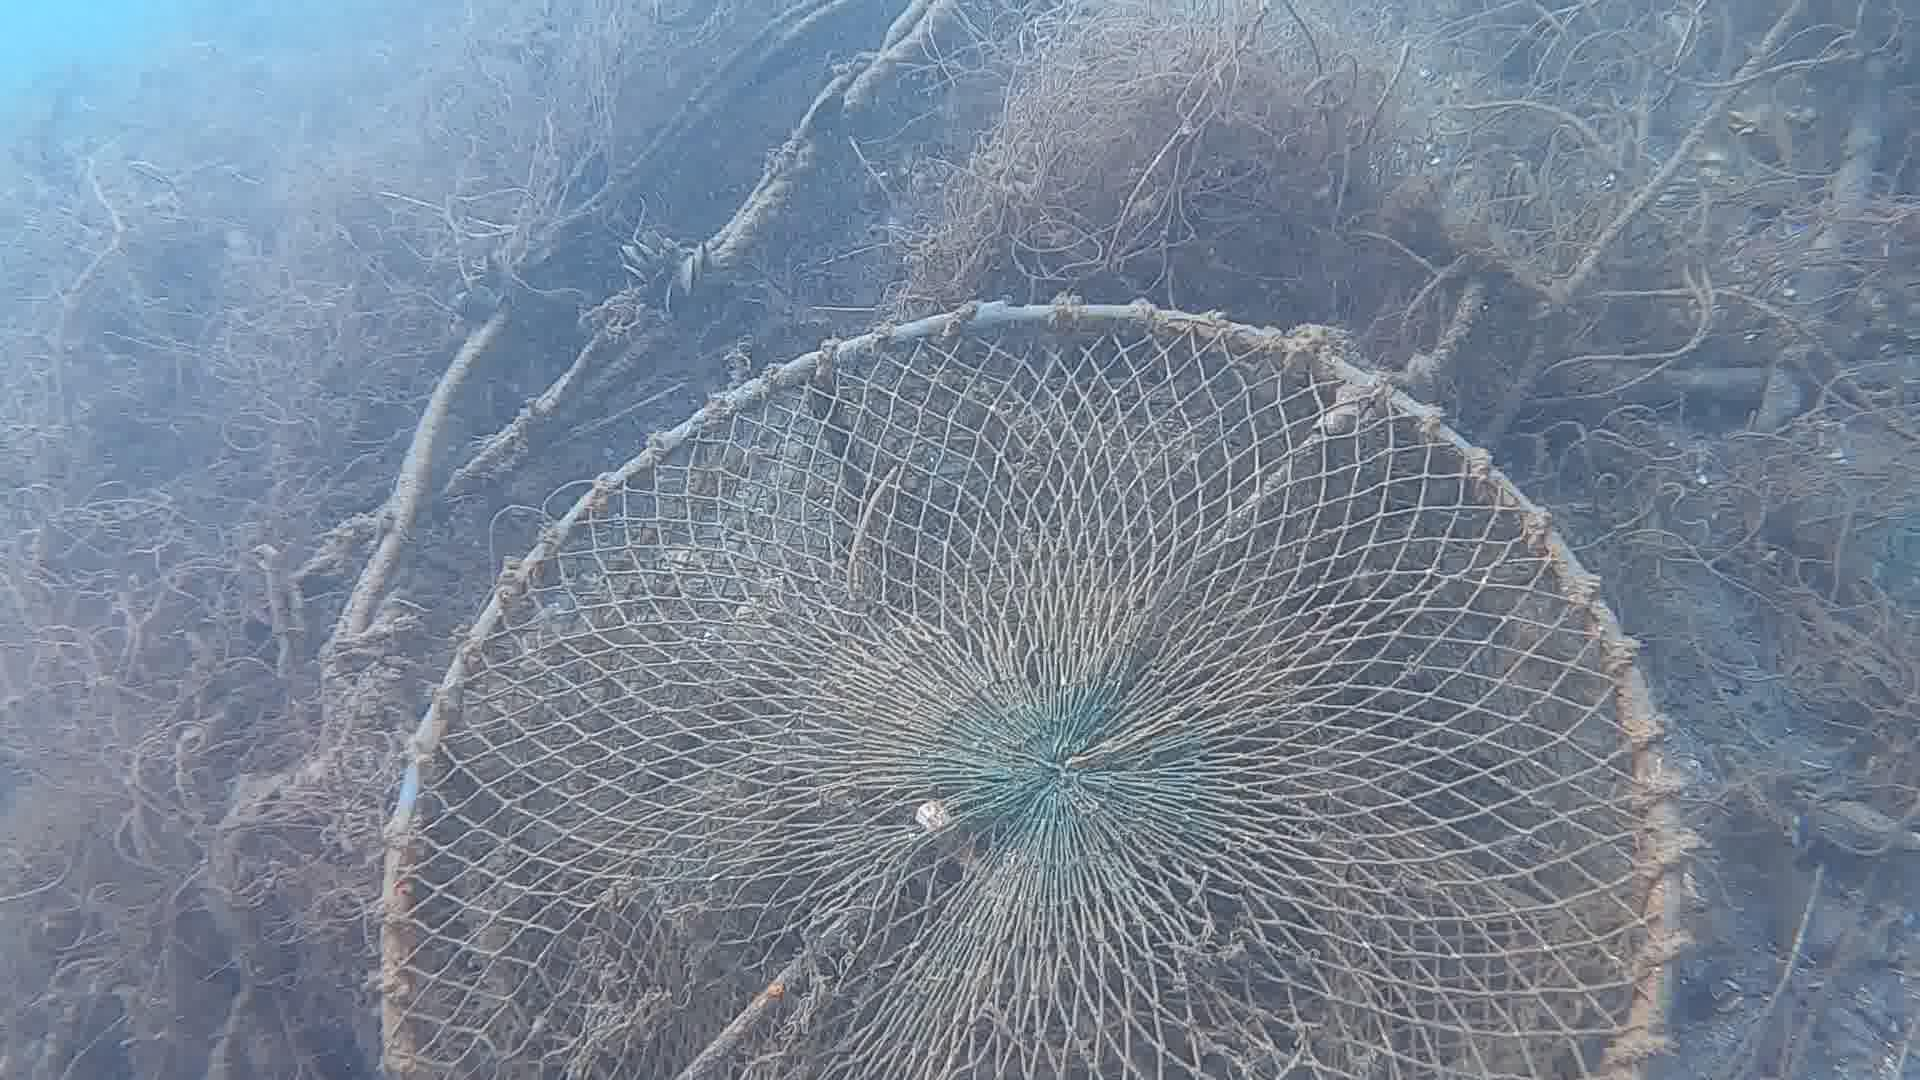circular fish trap: (377, 298, 1691, 1080)
